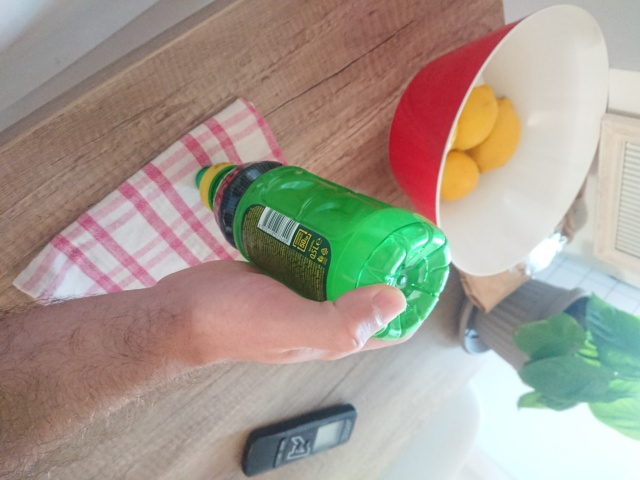Vindi Iso Sport Lemon-Grapefruit 500mL: (192, 158, 456, 344)
